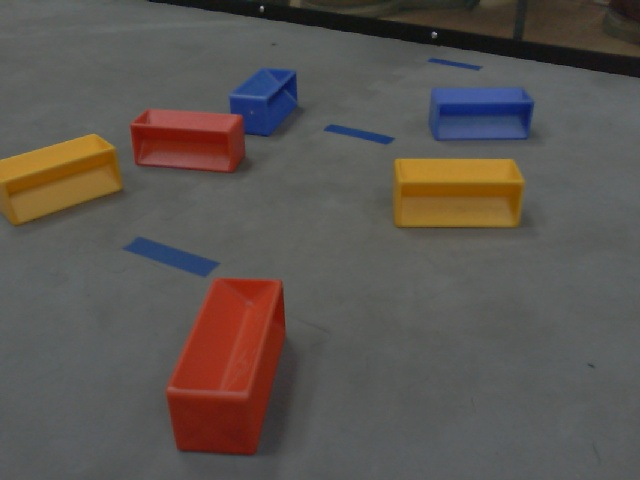BlueSample: (427, 85, 536, 143), (227, 65, 300, 138)
RedSample: (164, 273, 289, 455), (126, 106, 248, 179)
YellowSample: (1, 129, 128, 221), (389, 154, 528, 232)
